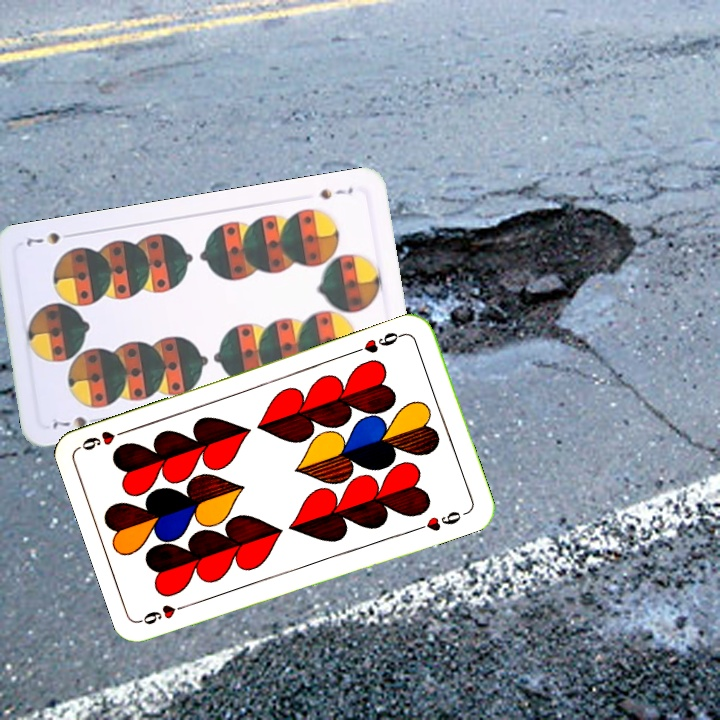H9: (137, 599, 195, 627), (351, 328, 408, 356)
S7: (46, 412, 104, 432), (316, 183, 356, 202)
